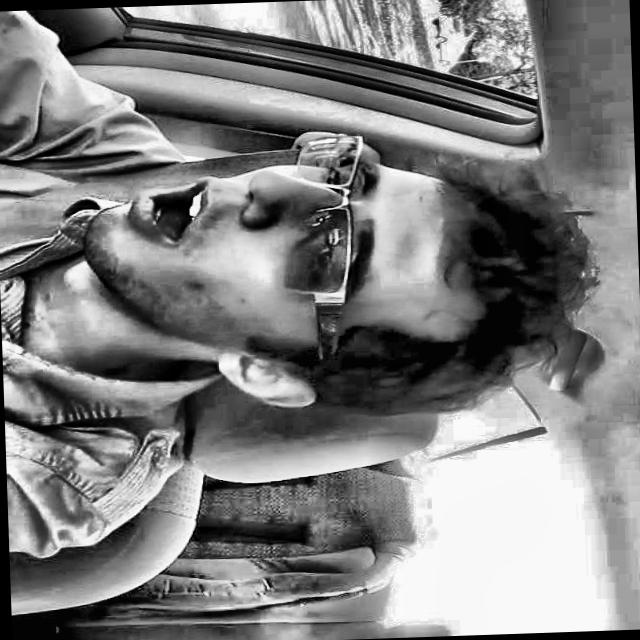closed_mouth: (104, 164, 221, 265)
open_eyes: (293, 223, 350, 292), (308, 145, 361, 197)
